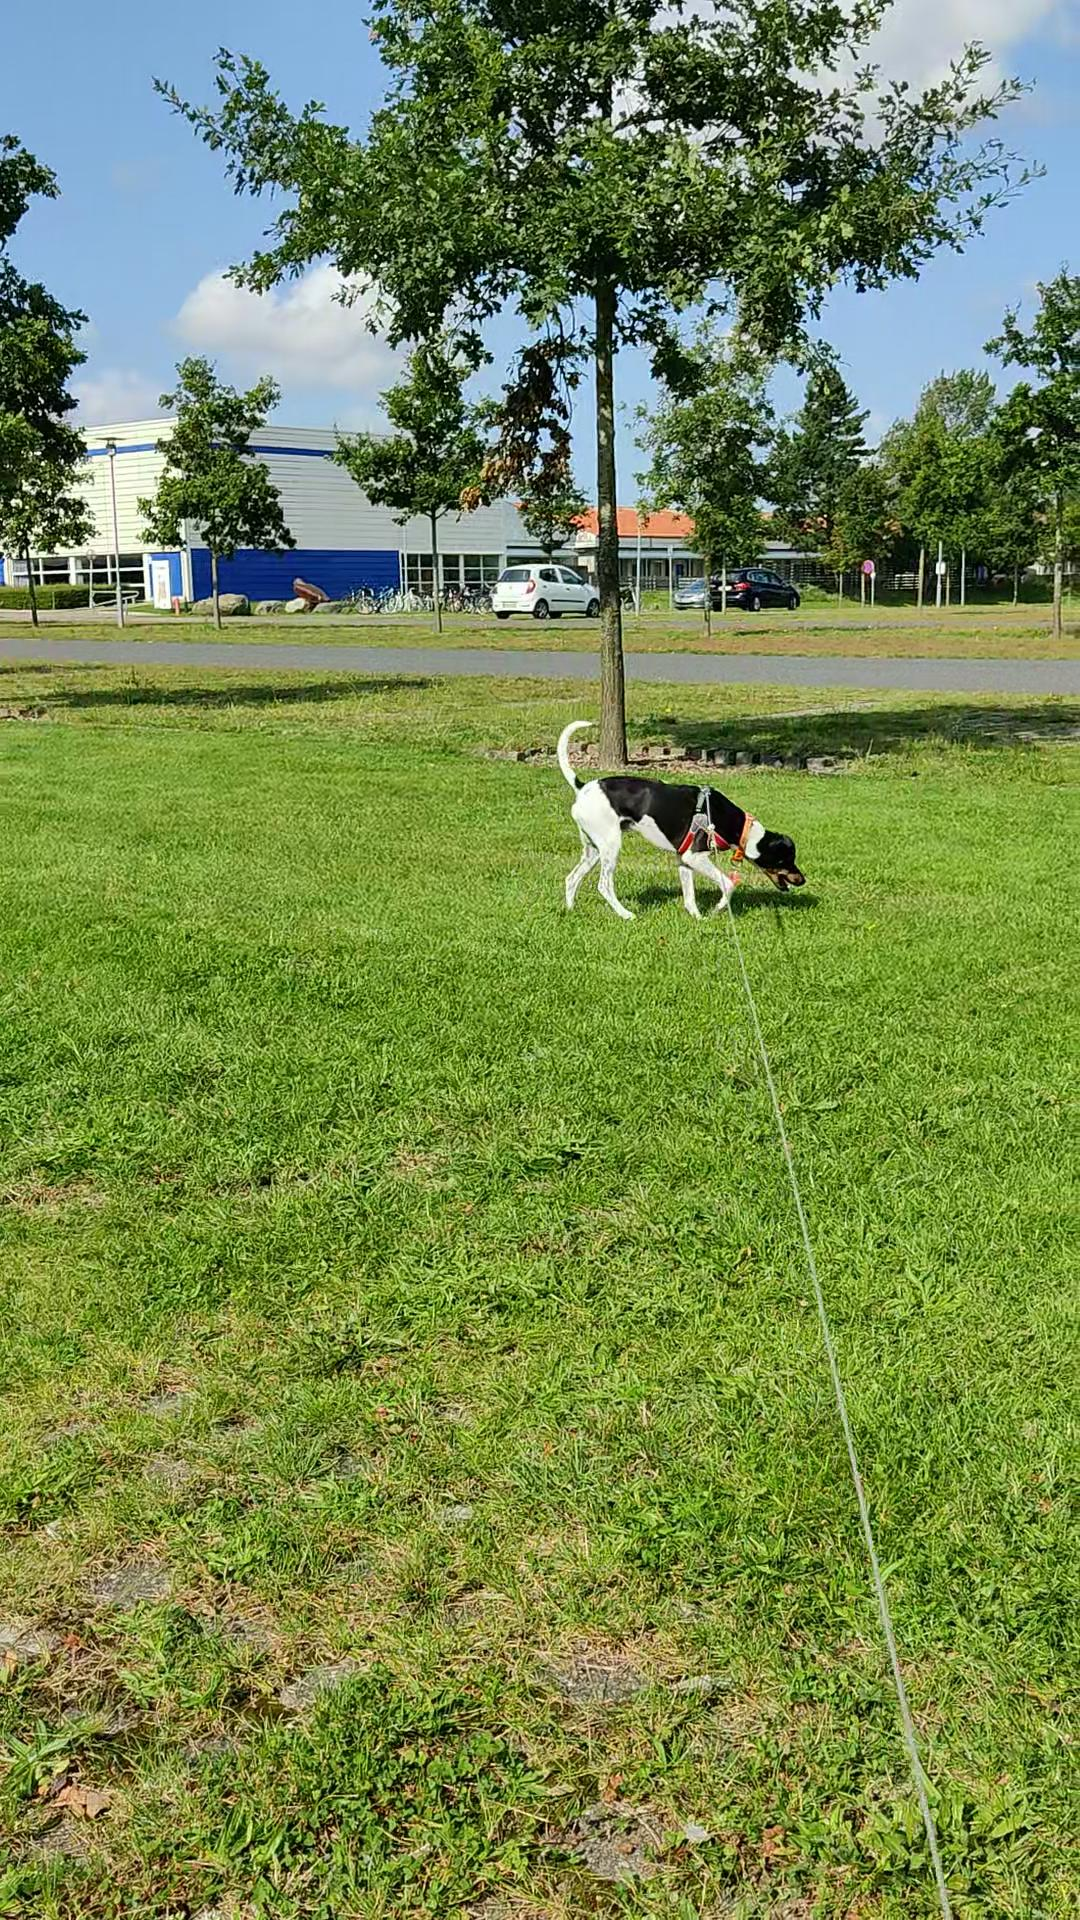Dog: (529, 699, 825, 930)
